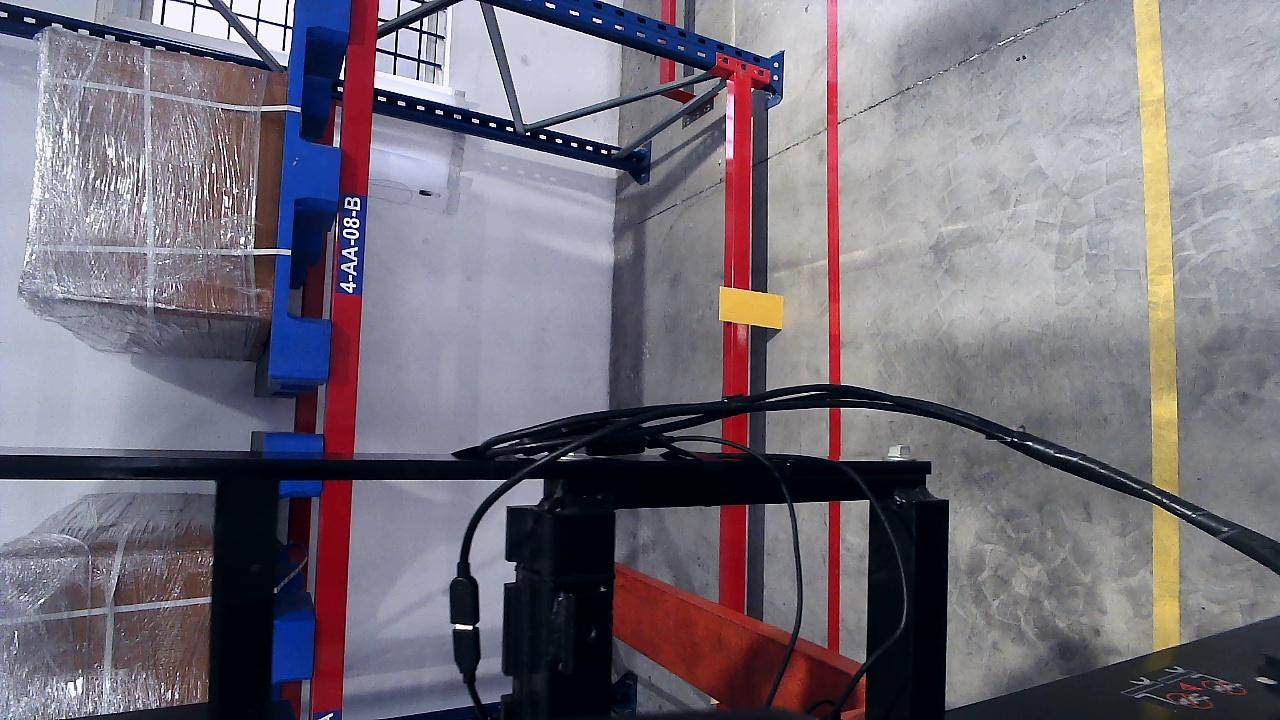h_rack: (319, 0, 381, 458), (728, 75, 757, 394)
orange_strip: (719, 286, 784, 327)
red_line: (822, 2, 844, 385)
yellow_line: (1134, 0, 1181, 506)
